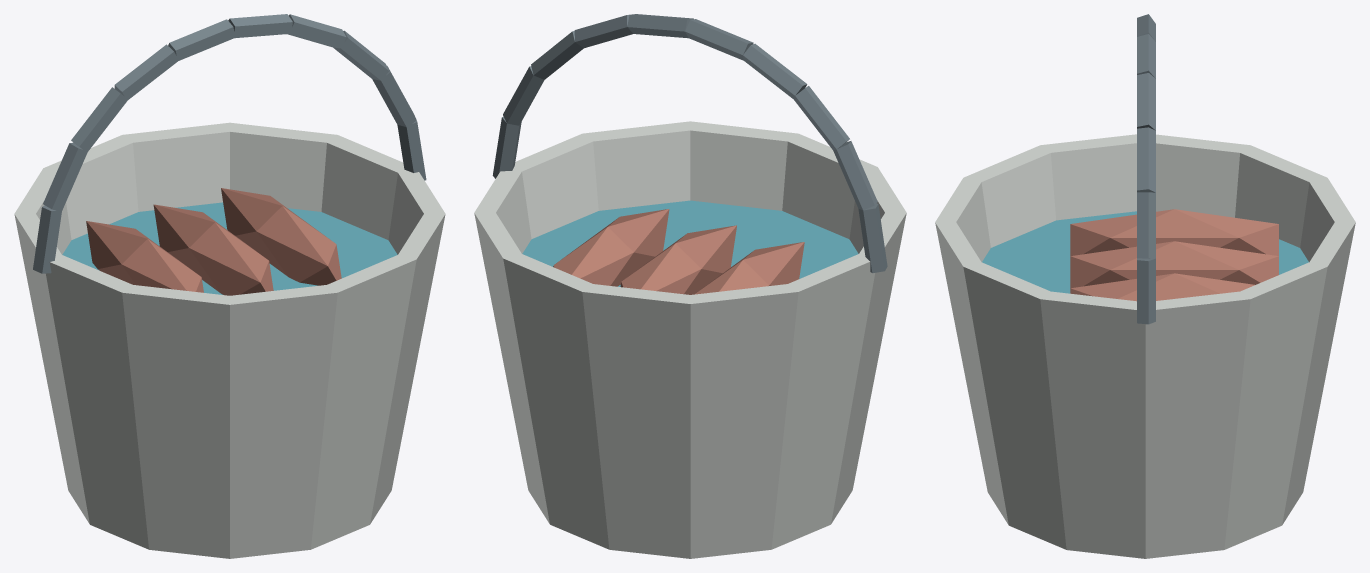
Rendered from FishBucket.fbx.
The picture shows the model from 3 angles, left to right: view 1: azimuth 30°, elevation 25°; view 2: azimuth 150°, elevation 25°; view 3: azimuth 270°, elevation 25°; orthographic projection. The views are drawn at different scales.
Parts seen in each view (by area): view 1: Bucket, BaitFish0, BaitFish1, Water, BaitFish2, Handle1, Handle2, Handle3, Handle4, Handle0, Handle5, Handle6 (+3 smaller); view 2: Bucket, Water, BaitFish0, BaitFish1, BaitFish2, Handle1, Handle2, Handle3, Handle4, Handle0, Handle5, Handle6 (+3 smaller); view 3: Bucket, BaitFish2, BaitFish1, Water, BaitFish0, Handle8, Handle9, Handle7, Handle6, Handle5.
Boxes of the visible parts, <box> form: Bucket: <box>14,122,445,558</box>; BaitFish0: <box>221,188,341,285</box>; BaitFish1: <box>153,204,273,295</box>; Water: <box>62,202,397,294</box>; BaitFish2: <box>86,221,203,292</box>; Handle1: <box>43,142,87,210</box>; Handle2: <box>71,87,128,152</box>; Handle3: <box>114,44,178,99</box>; Handle4: <box>168,19,234,60</box>; Handle0: <box>33,205,61,273</box>; Handle5: <box>228,14,292,38</box>; Handle6: <box>287,14,346,48</box>; Bucket: <box>474,121,906,558</box>; Water: <box>522,200,858,286</box>; BaitFish0: <box>553,209,669,286</box>; BaitFish1: <box>620,225,736,294</box>; BaitFish2: <box>694,242,804,294</box>; Handle1: <box>833,141,877,210</box>; Handle2: <box>793,86,849,150</box>; Handle3: <box>743,43,807,98</box>; Handle4: <box>685,19,753,60</box>; Handle0: <box>858,203,887,273</box>; Handle5: <box>627,14,693,38</box>; Handle6: <box>574,14,633,48</box>; Bucket: <box>935,134,1355,558</box>; BaitFish2: <box>1070,209,1278,255</box>; BaitFish1: <box>1070,241,1278,288</box>; Water: <box>982,211,1308,293</box>; BaitFish0: <box>1070,273,1254,301</box>; Handle8: <box>1137,192,1155,258</box>; Handle9: <box>1137,258,1155,324</box>; Handle7: <box>1137,127,1155,192</box>; Handle6: <box>1137,73,1155,130</box>; Handle5: <box>1137,34,1155,78</box>.
Bounding box in the file's own units: 0.3769 × 0.4335 × 0.36.
